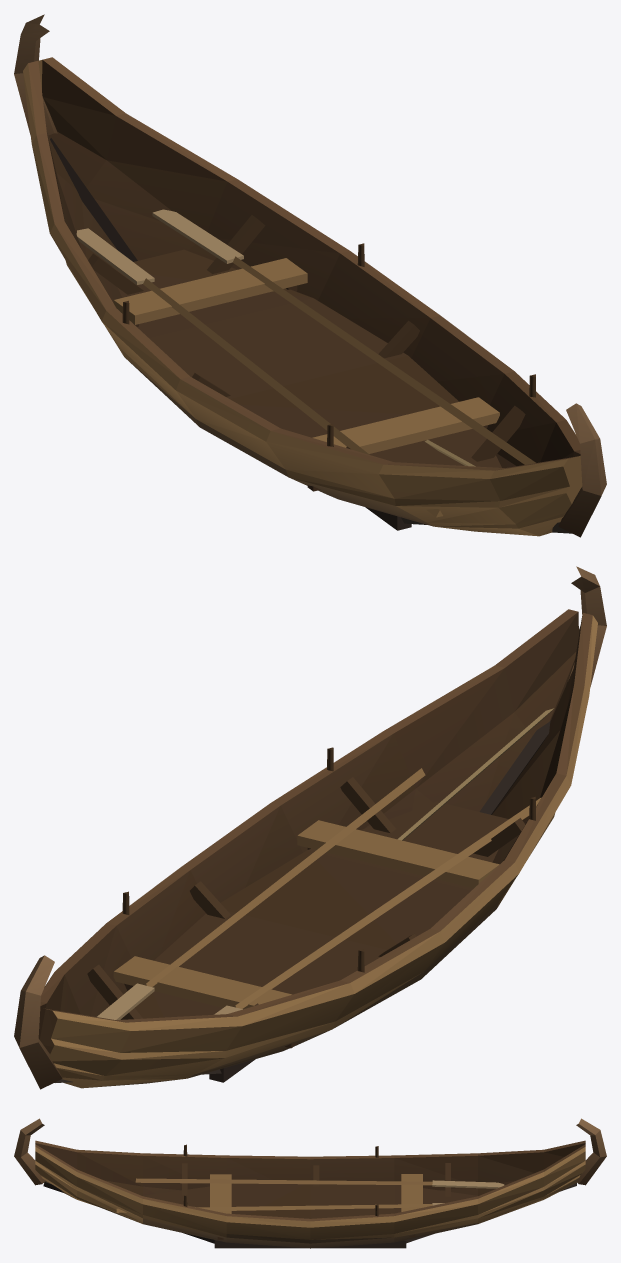
File: faering-rowboat.glb
3 renders of one model, top to bottom at view 1: azimuth 30°, elevation 25°; view 2: azimuth 150°, elevation 25°; view 3: azimuth 270°, elevation 25°, orthographic. The views are drawn at different scales.
Visible parts, largest first — view 1: faering_rowboat; view 2: faering_rowboat; view 3: faering_rowboat.
Part boxes in pixels (bbox=[...]): faering_rowboat: bbox=[14, 14, 606, 537]; faering_rowboat: bbox=[14, 566, 606, 1089]; faering_rowboat: bbox=[14, 1118, 606, 1248].
Size of the model in its own units: 1.32 by 1.18 by 4.95.
